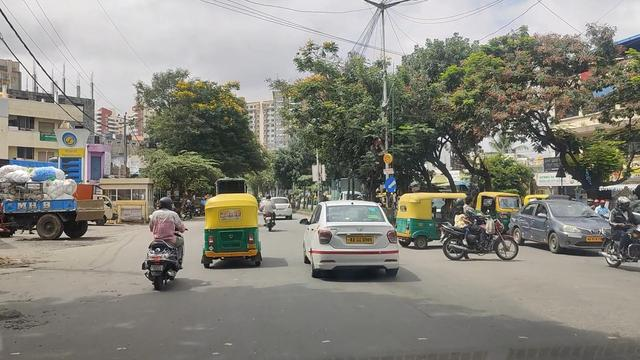HMV: (1, 162, 108, 249)
RoadDamages: (4, 298, 64, 352)
